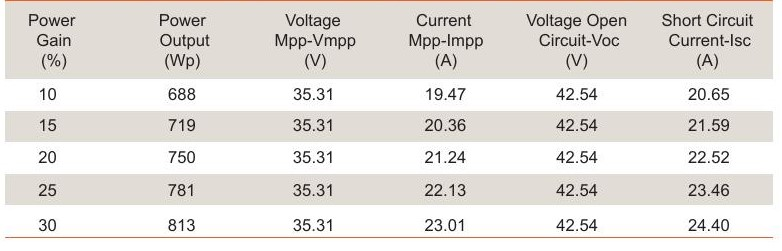table column: (1, 1, 781, 247), (515, 3, 632, 238), (649, 2, 762, 243), (253, 1, 360, 242), (392, 2, 492, 244), (136, 1, 226, 243), (16, 2, 100, 241)
table row: (7, 3, 766, 79), (6, 176, 772, 205), (5, 143, 776, 171), (5, 209, 773, 235), (5, 113, 772, 138), (6, 83, 769, 108)
